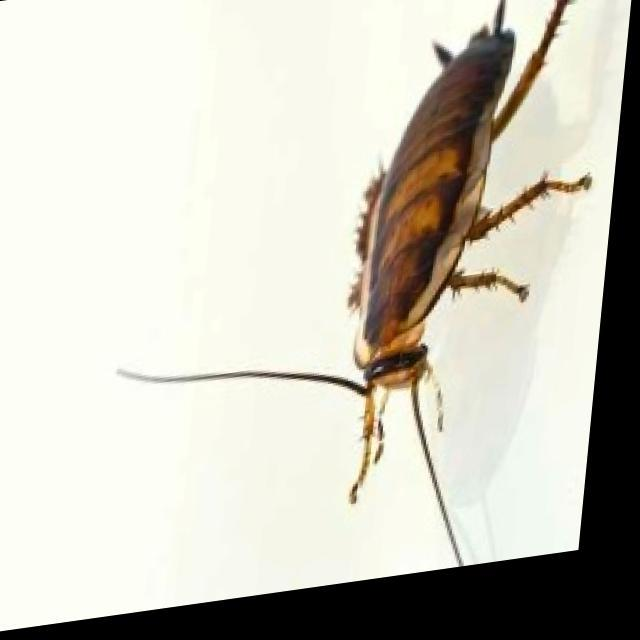cockroach: (111, 1, 596, 567)
